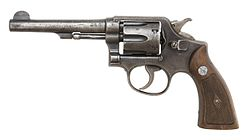Arma Real: (7, 7, 240, 131)
